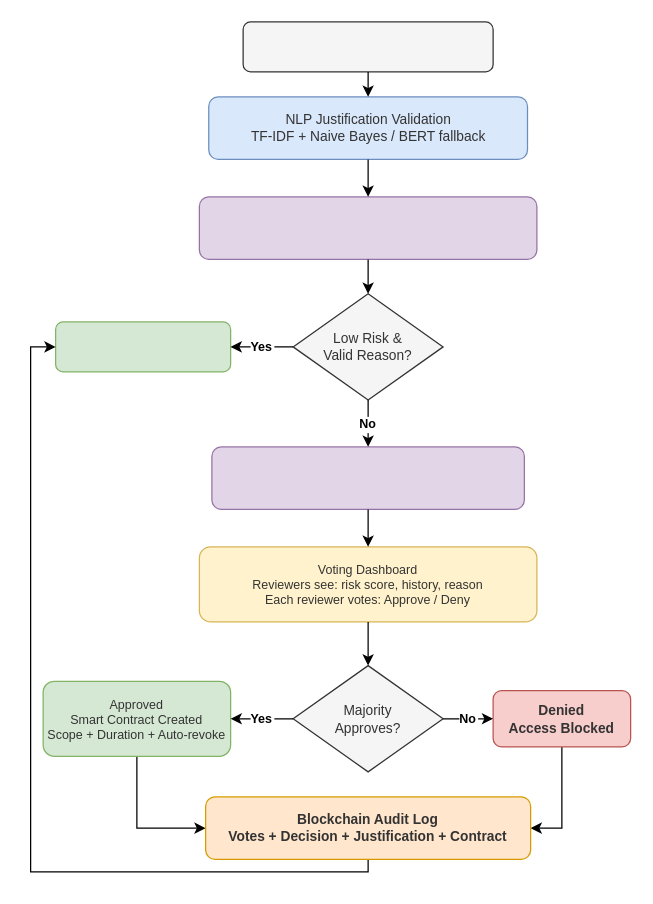
Some shapes in this 653 by 904 pixel diagram are drawn without their labels. The shapes that lost their labels are listed below. From the top down, each one's centre as x and y in pixels, then its label:
At point (367, 46): "User Requests Resource".
At point (367, 227): "AI Decision Function D = f(risk score, reason validity)".
At point (142, 346): "Access Granted".
At point (367, 477): "LLM Selects Voters Owner, Supervisor, Dept Head".
